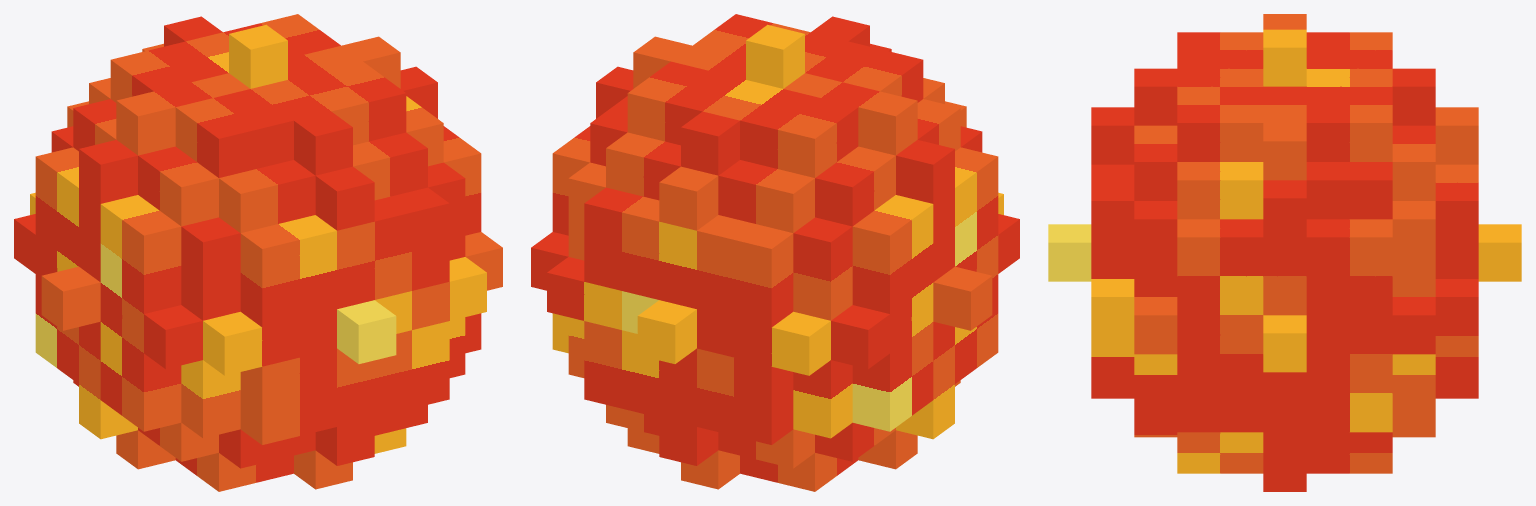
3 renders of one model, left to right at view 1: azimuth 30°, elevation 25°; view 2: azimuth 150°, elevation 25°; view 3: azimuth 270°, elevation 25°, orthographic.
Visible parts, largest first — view 1: Object; view 2: Object; view 3: Object.
Boxes of the visible parts, box(x1,y1,x2,y2) form: Object: box(14, 14, 502, 491); Object: box(531, 14, 1019, 491); Object: box(1048, 14, 1521, 491).
Bounding box in the file's own units: 11 × 11 × 11.
1 material, 1 textured.
